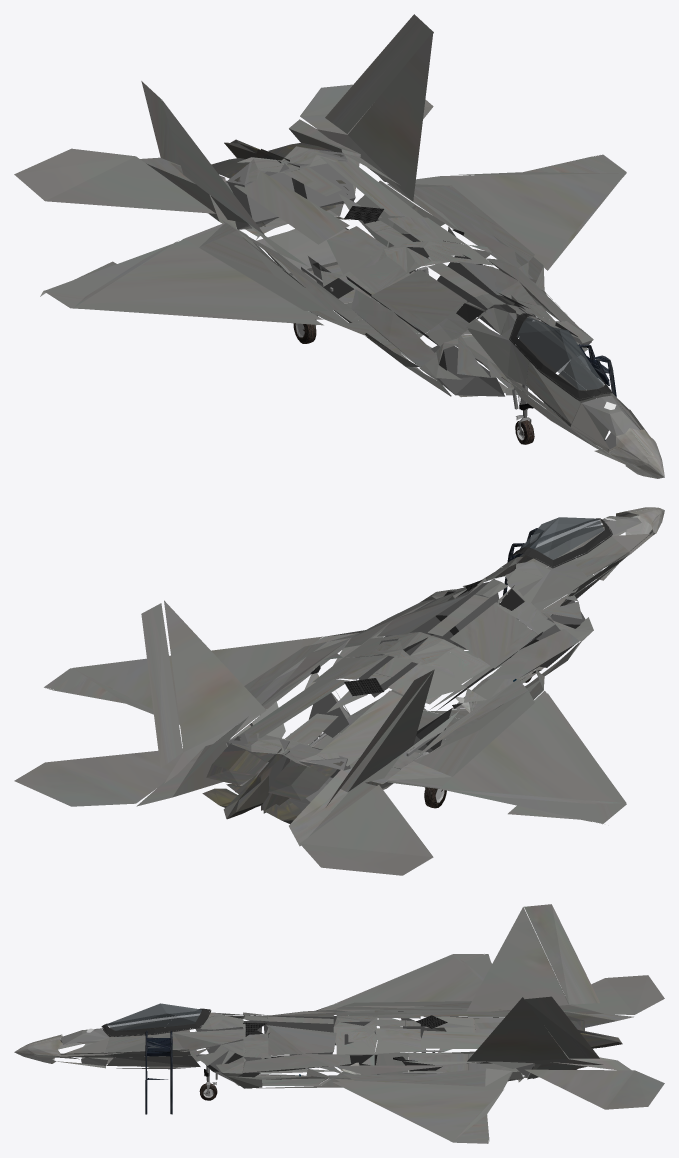
3 views of the same model, one above another, from view 1: azimuth 30°, elevation 25°; view 2: azimuth 150°, elevation 25°; view 3: azimuth 270°, elevation 25° (orthographic). The views are drawn at different scales.
Parts seen in each view (by area): view 1: Object_93, Object_159, Object_157, Object_153, Object_123, Object_41, Object_163, Object_97, Object_161, Object_45, Object_43; view 2: Object_93, Object_159, Object_157, Object_45, Object_97, Object_41, Object_153, Object_163, Object_43, Object_123, Object_161, Object_113; view 3: Object_93, Object_159, Object_157, Object_41, Object_97, Object_163, Object_89, Object_43, Object_161, Object_153, Object_45, Object_113.
Part boxes in pixels (<box>): Object_93: <box>14,14,626,397</box>; Object_159: <box>199,184,608,447</box>; Object_157: <box>420,294,628,426</box>; Object_153: <box>421,321,591,396</box>; Object_123: <box>226,149,355,229</box>; Object_41: <box>517,317,603,390</box>; Object_163: <box>569,395,648,464</box>; Object_97: <box>308,233,535,345</box>; Object_161: <box>609,428,664,478</box>; Object_45: <box>211,139,348,229</box>; Object_43: <box>509,313,612,400</box>; Object_93: <box>14,594,626,875</box>; Object_159: <box>232,558,613,788</box>; Object_157: <box>419,529,629,643</box>; Object_45: <box>202,736,343,823</box>; Object_97: <box>308,616,542,752</box>; Object_41: <box>514,517,603,559</box>; Object_153: <box>414,582,585,667</box>; Object_163: <box>569,516,653,580</box>; Object_43: <box>509,518,612,568</box>; Object_123: <box>226,733,350,802</box>; Object_161: <box>616,507,664,535</box>; Object_113: <box>344,579,483,696</box>; Object_93: <box>235,904,664,1143</box>; Object_159: <box>106,1001,512,1088</box>; Object_157: <box>104,1012,271,1076</box>; Object_41: <box>106,1003,201,1030</box>; Object_97: <box>263,1016,442,1071</box>; Object_163: <box>55,1028,113,1068</box>; Object_89: <box>145,1030,172,1114</box>; Object_43: <box>101,1008,211,1036</box>; Object_161: <box>14,1034,62,1063</box>; Object_153: <box>195,1021,261,1083</box>; Object_45: <box>531,1016,622,1078</box>; Object_113: <box>245,1015,447,1036</box>.
Bounding box in the file's own units: 1.93 × 0.7001 × 2.76.
Materials: 24 (11 with a texture image).
